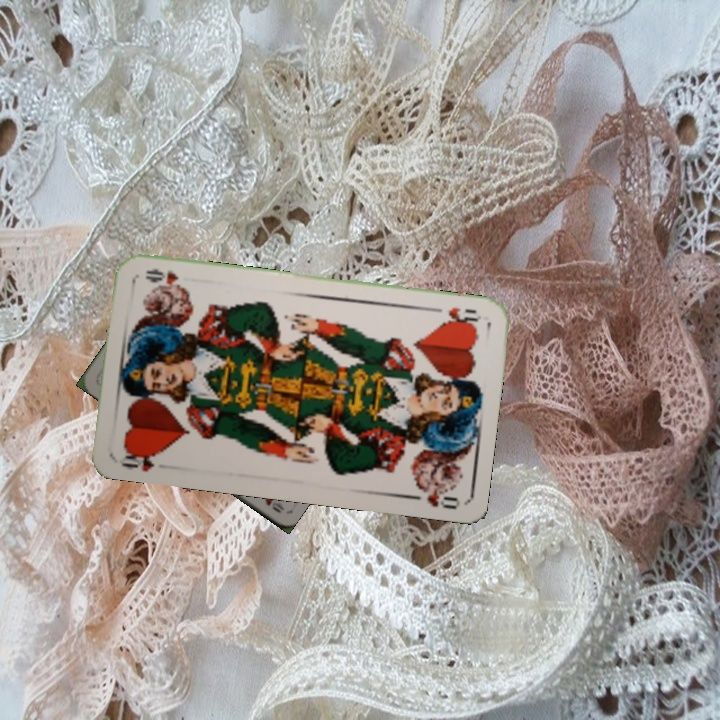HO: (426, 303, 484, 329), (117, 445, 162, 474)
